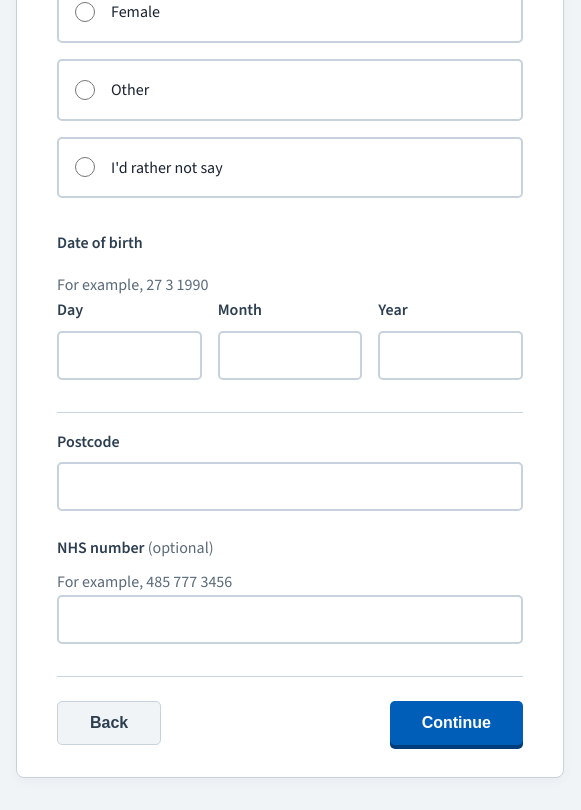
Test: PatientDetailsScreen › shows first name error when first name is empty on submit
(page scrolled)
Click the button "Continue".
click(456, 723)  # box [390,701,523,745]
(page scrolled)
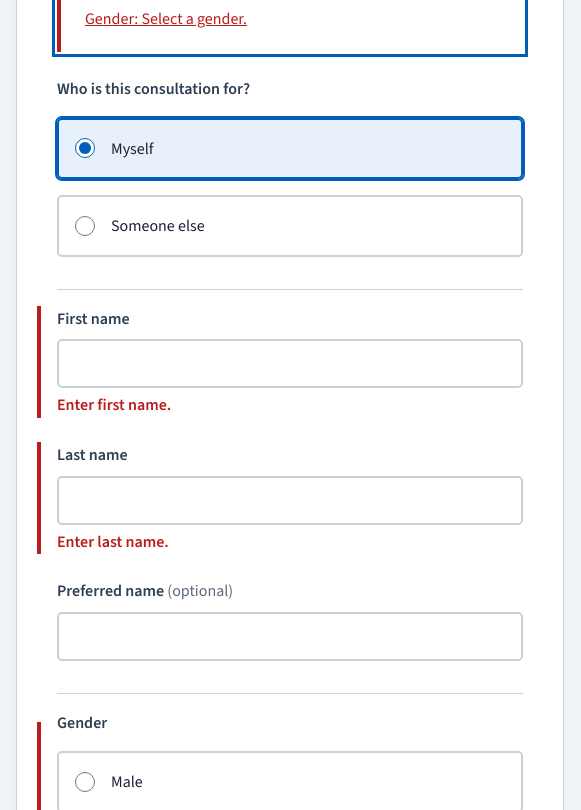
Check: the text "Enter first name." is shown, box [56,393,171,415]
